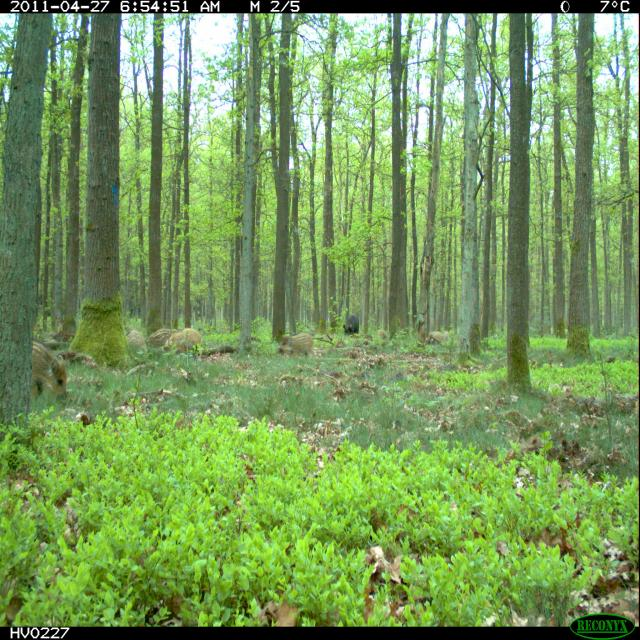boar: (27, 323, 84, 418), (273, 315, 329, 373), (162, 319, 209, 370), (336, 303, 368, 348), (143, 317, 175, 351)
